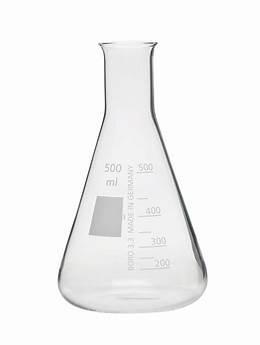Titrarion: (43, 31, 217, 314)
